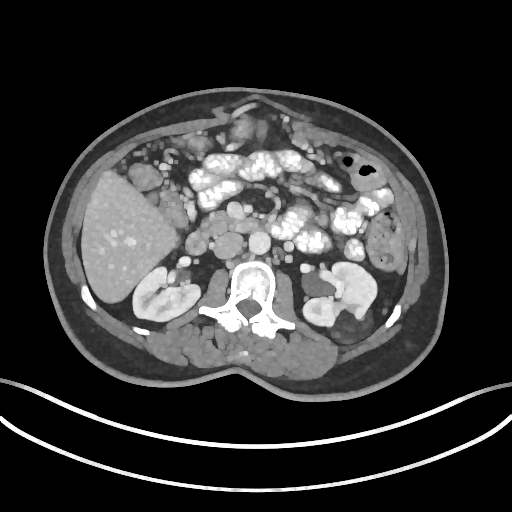Lesion: (329, 308, 375, 345)
